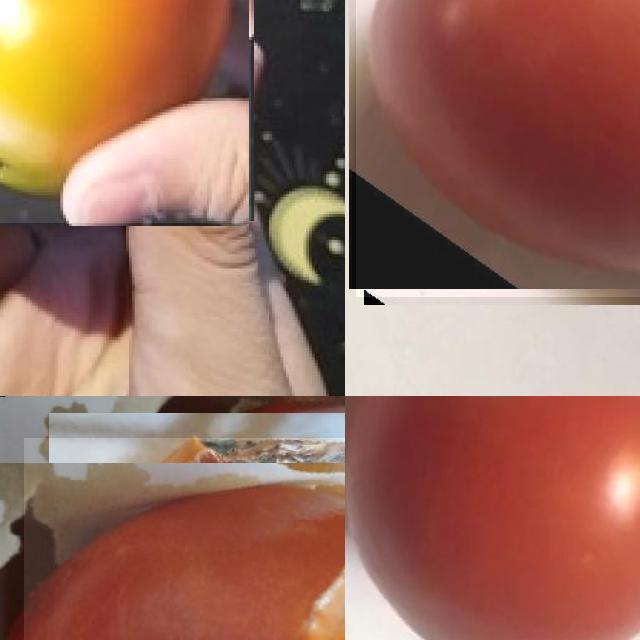Fresh Tomato: (355, 0, 640, 297), (345, 396, 640, 640)
Rotten Tomato: (24, 438, 345, 640), (0, 0, 251, 223)
